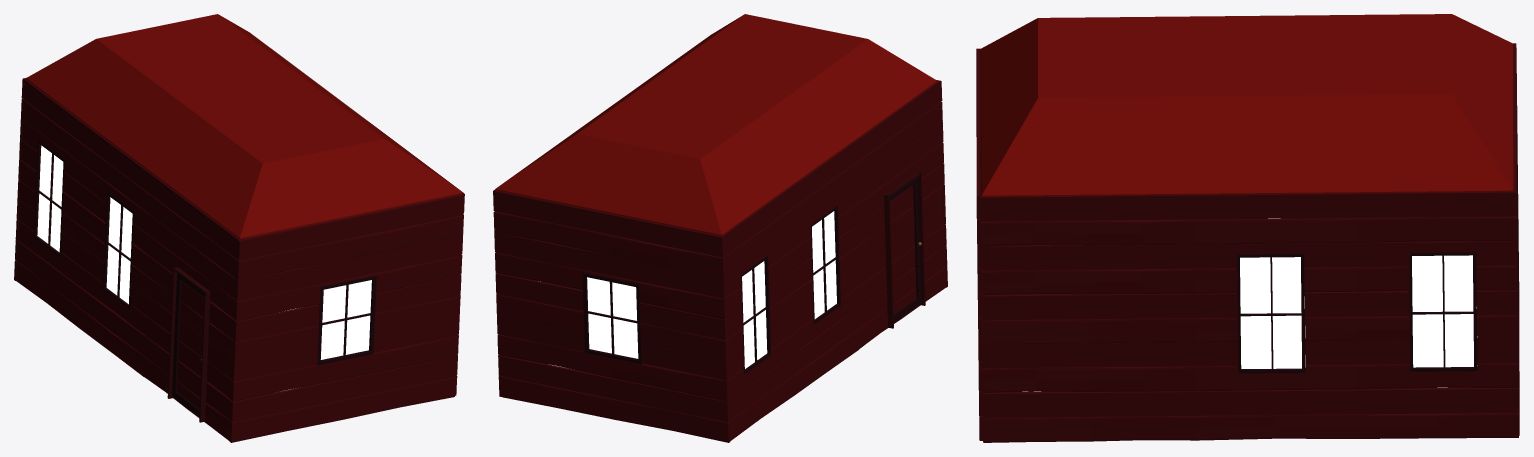
Rendered from d2h_house4.fbx.
3 renders of one model, left to right at view 1: azimuth 30°, elevation 25°; view 2: azimuth 150°, elevation 25°; view 3: azimuth 270°, elevation 25°, orthographic. The views are drawn at different scales.
Visible parts, largest first — view 1: h4.003; view 2: h4.003; view 3: h4.003.
Boxes of the visible parts, bbox=[...] form: h4.003: bbox=[14, 14, 464, 442]; h4.003: bbox=[493, 14, 947, 442]; h4.003: bbox=[976, 14, 1519, 442].
Size of the model in its own units: 24.37 by 25.43 by 38.58.
